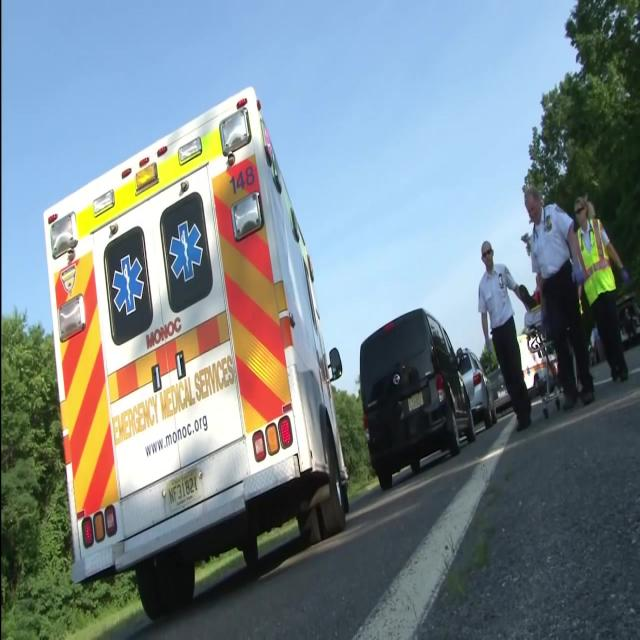Reflective-Jacket: (568, 217, 622, 316)
Safety-Helmet: (569, 185, 596, 224), (475, 231, 501, 271)
